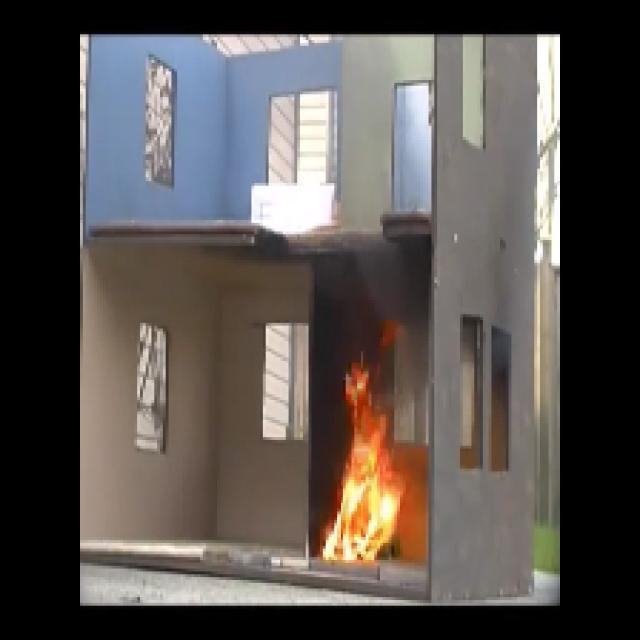Fire: (338, 368, 396, 560)
Smoke: (322, 252, 407, 330)
